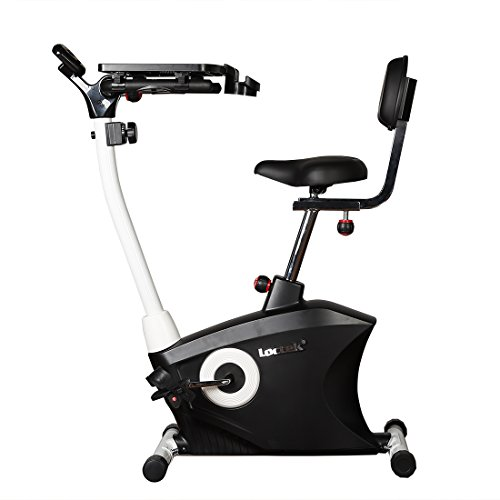gym_bike: (38, 42, 425, 478)
